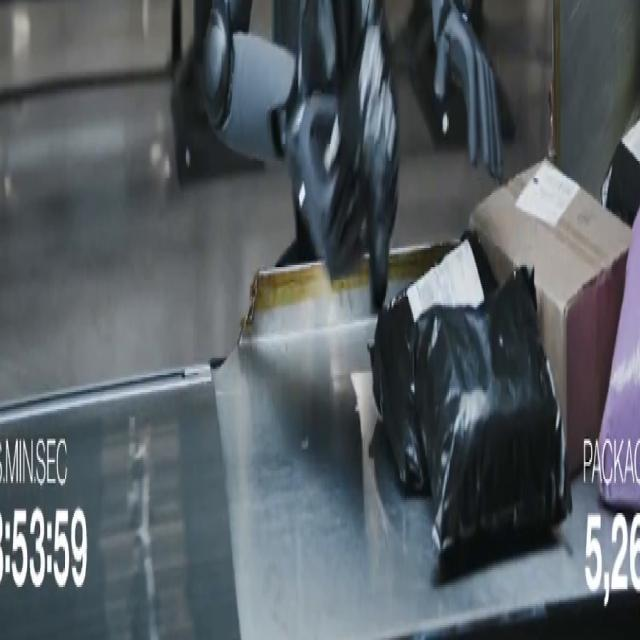package: (470, 162, 630, 474), (414, 268, 571, 555), (369, 231, 496, 493), (598, 217, 639, 510), (601, 121, 639, 226)
